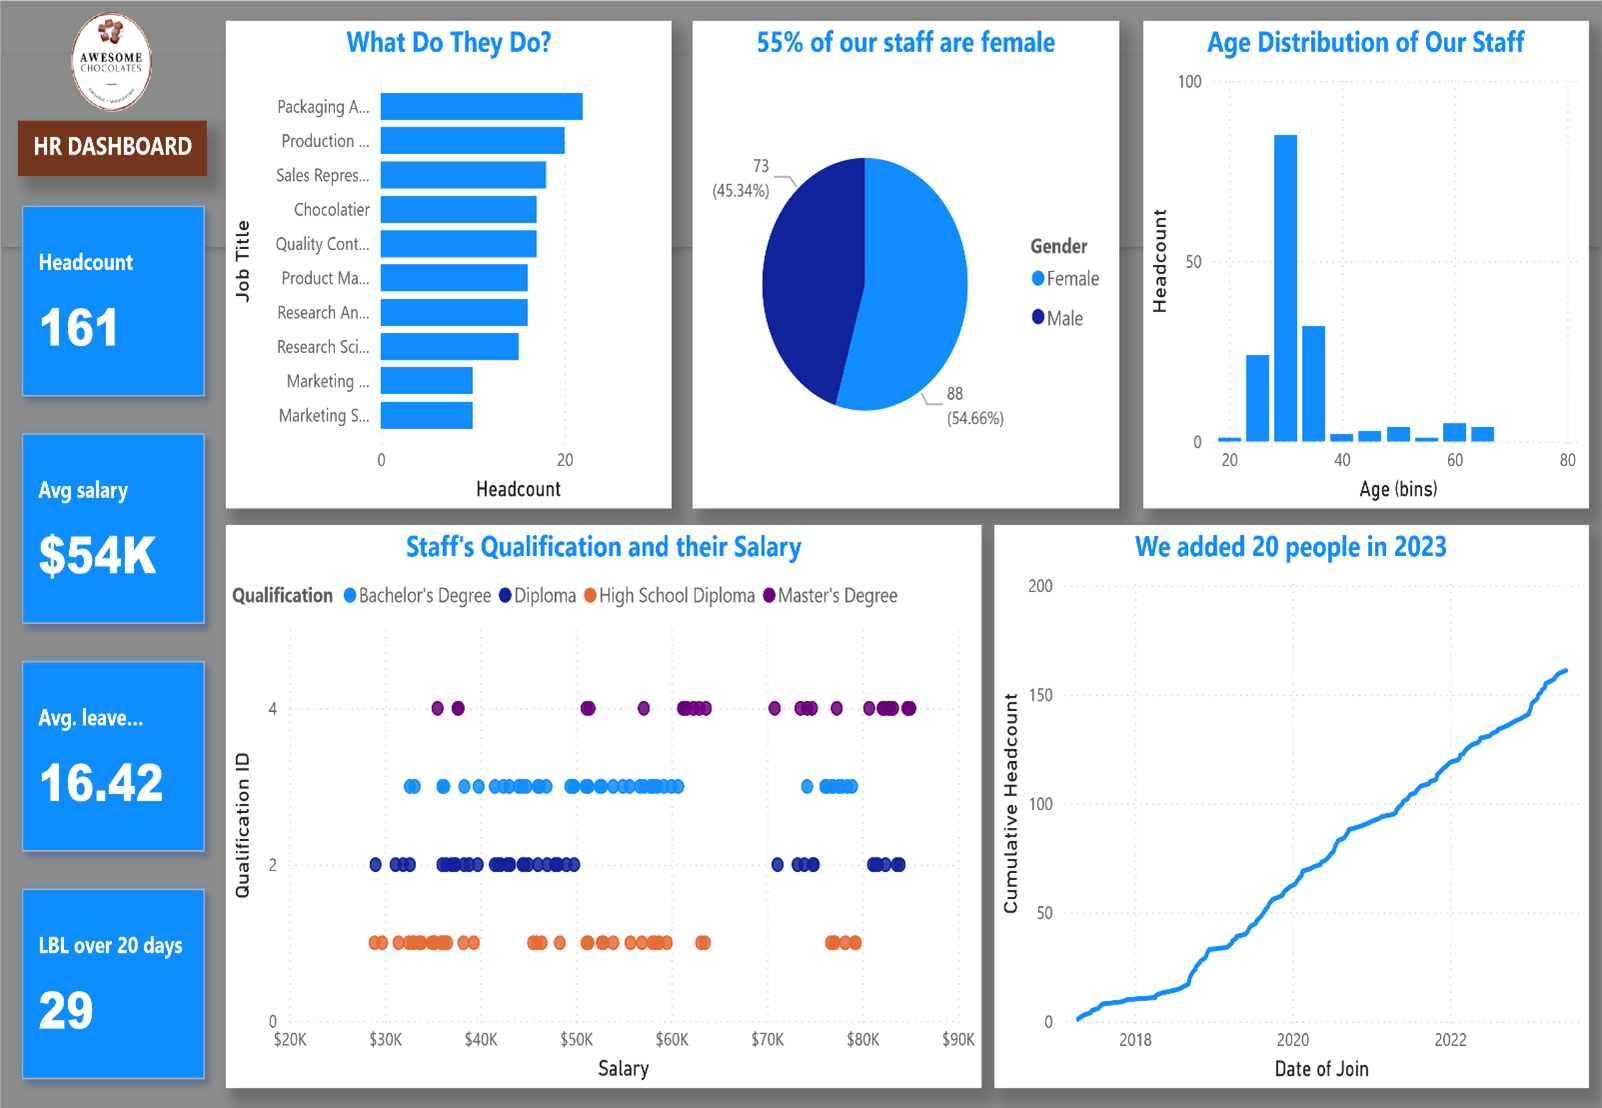

This screenshot's page, from the dashboard's own definition file:
{"tool":"powerbi","page":{"name":"HR dashboard","canvas":[1280,720],"ordinal":9},"visuals":[{"type":"cardVisual","fields":{"Data":["Staff.Headcount","Staff.Avg salary","Staff.Avg. leave balance","Staff.LBL over 20 days"]},"box":[0,115.7,180,604.3],"z":0},{"type":"clusteredBarChart","title":"What Do They Do?","fields":{"Category":["Staff.Job Title"],"Y":["Staff.Headcount"]},"box":[180,12.9,355.7,317.1],"z":1000},{"type":"pieChart","title":"55% of our staff are female","fields":{"Category":["Staff.Gender"],"Y":["Staff.Headcount"]},"box":[552.9,12.9,341.4,317.1],"z":2000},{"type":"columnChart","title":"Age Distribution of Our Staff","fields":{"Y":["Staff.Headcount"],"Category":["Staff.Age (bins)"]},"box":[912.9,12.9,355.7,317.1],"z":3000},{"type":"scatterChart","title":"Staff''s Qualification and their Salary","fields":{"X":["Staff.Salary"],"Y":["Education Qualification.Qualification ID"],"Series":["Education Qualification.Qualification"]},"box":[180,341.4,604.3,365.7],"z":4000},{"type":"lineChart","title":"We added 20 people in 2023","fields":{"Y":["Staff.Cumulative Headcount"],"Category":["Staff.Date of Join"]},"box":[794.3,341.4,474.3,365.7],"z":5000},{"type":"image","box":[50.8,0,75.5,78.2],"z":5001},{"type":"textbox","box":[13.7,78.2,150.9,35.7],"z":5002}]}

Visuals, with their boxes on the page's 1280x720 design canvas (x1, y1, x2, y2). These are canvas units, not pixel positions in the 1602x1108 screenshot, which may show the page scaled, cropped or inside an application window:
cardVisual - Staff.Headcount x Staff.Avg salary: 0/116/180/720
"What Do They Do?" clusteredBarChart: 180/13/536/330
"55% of our staff are female" pieChart: 553/13/894/330
"Age Distribution of Our Staff" columnChart: 913/13/1269/330
"Staff''s Qualification and their Salary" scatterChart: 180/341/784/707
"We added 20 people in 2023" lineChart: 794/341/1269/707
image: 51/0/126/78
textbox: 14/78/165/114
